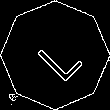L_NW: (26, 26, 84, 84)
